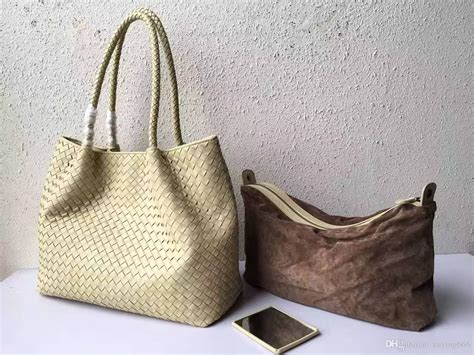gamuza: (243, 169, 438, 334)
